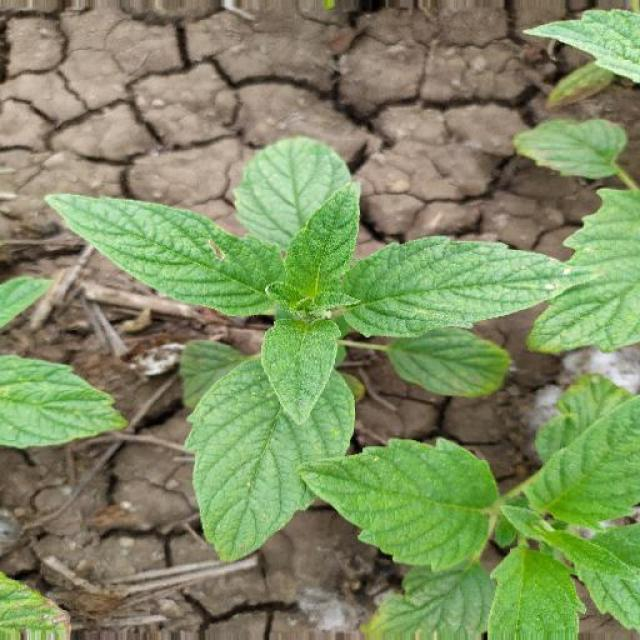crop: (58, 107, 538, 554), (309, 364, 640, 625)
